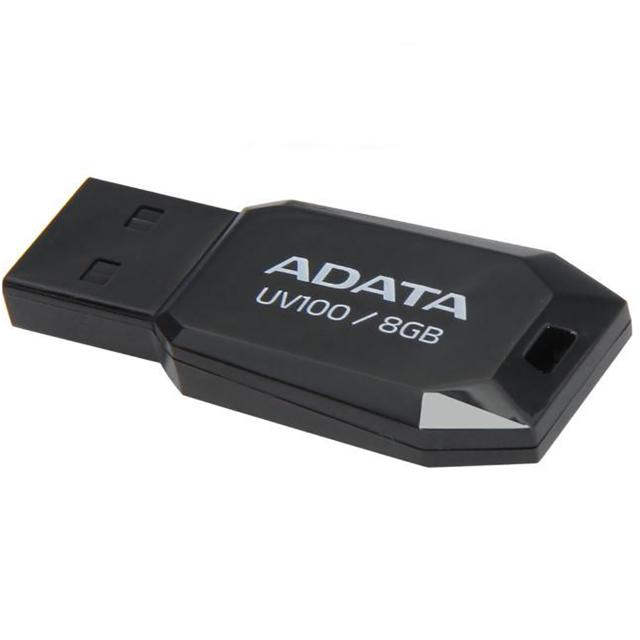USB-Flash-Drive: (2, 178, 634, 471)
